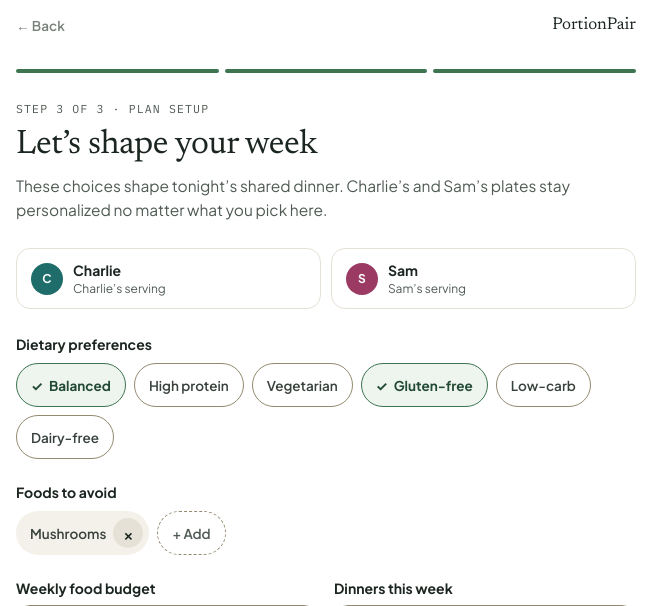
Scenario: PlanSetupForm › rejects a duplicate avoided food without adding it twice
The image size is (653, 606).
Click the button "+ Add" at point(192, 533), box x1=157 y1=511 x2=226 y2=555
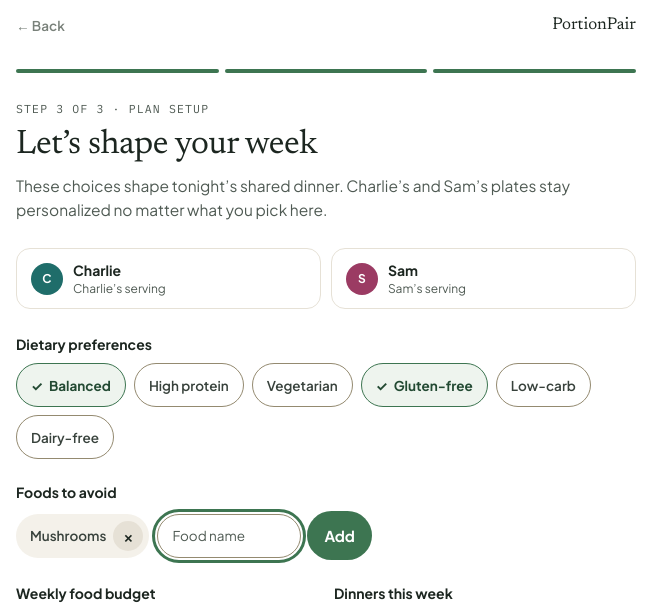
Type "mushrooms" into the field named "New food to avoid" at point(229, 536), box x1=157 y1=514 x2=301 y2=558
Then press Enter
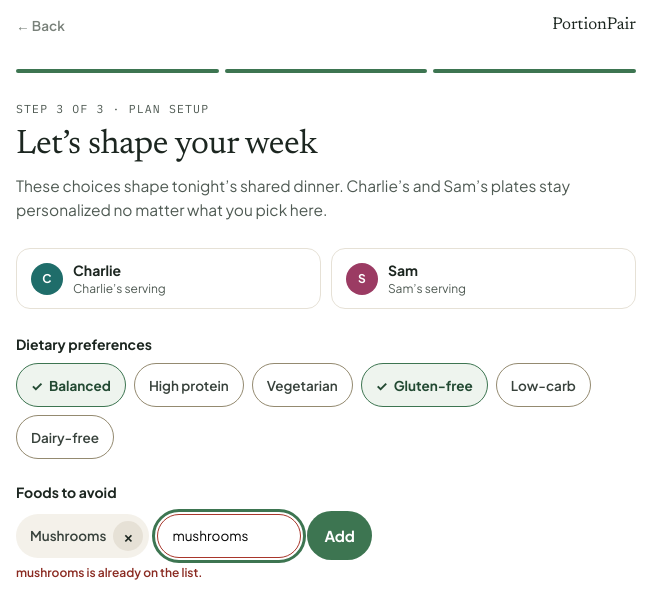
Expected: the number of buttons "×" is 1, x1=113 y1=521 x2=143 y2=551
Result: the text "mushrooms is already on the list." is shown at x1=16 y1=565 x2=202 y2=580
